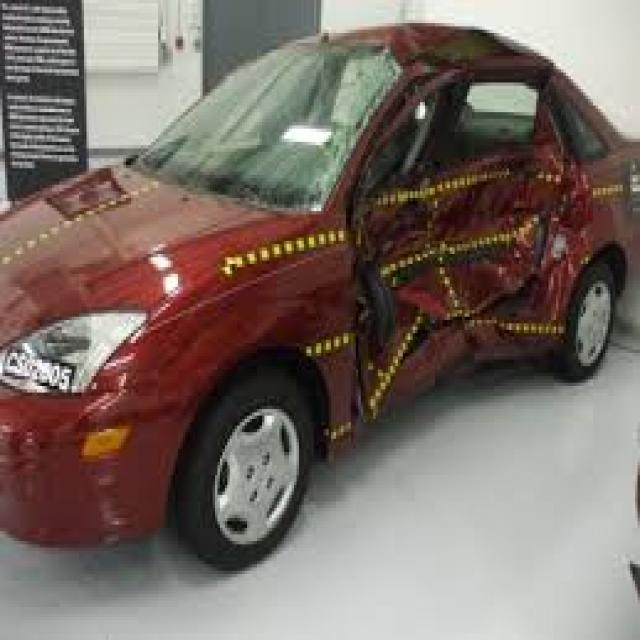moderate: (241, 119, 608, 421)
